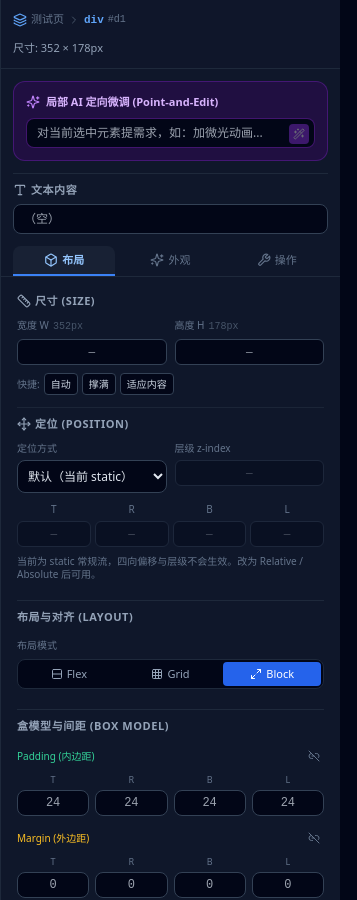
Test case: 属性面板几何属性与多 Tab (Inspector Geometry & Tabs) › CHK-F-07 ~ CHK-F-09: 面板分组与写入链路 (BR-INS-01/07/08) › CHK-F-07: 三个分组各就各位；面包屑、AI 微调与文本内容常驻不随切换消失
The image size is (357, 900).
Click the button with test id "inspector-tab-style".
click(170, 261)  # box [119, 246, 222, 276]
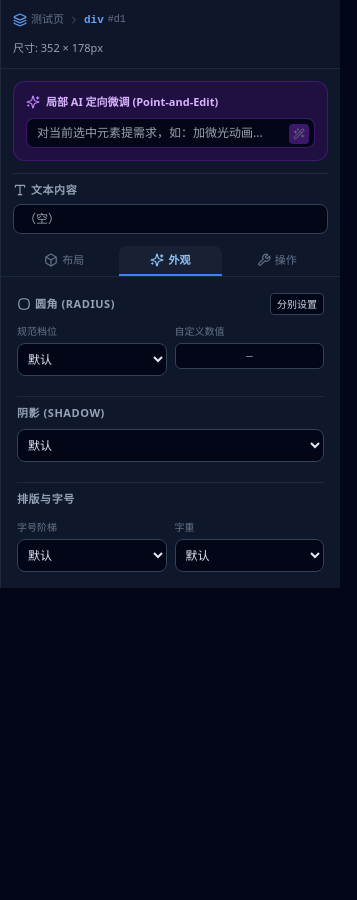
Expected: the text "圆角 (RADIUS)" is shown, [35, 296, 115, 312]
Expected: the text "阴影 (SHADOW)" is shown, [17, 405, 105, 420]
Expected: the text "排版与字号" is shown, [17, 491, 75, 506]
Click the button with test id "inspector-tab-actions".
click(277, 261)  # box [226, 246, 328, 276]
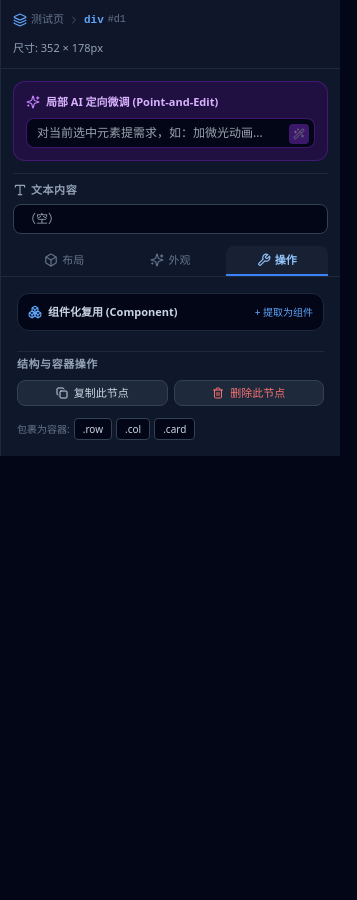
Expected: the text "结构与容器操作" is shown, [17, 356, 98, 371]
Expected: the text "组件化复用" is shown, [48, 304, 177, 319]
Expected: the text "圆角 (RADIUS)" is gone
